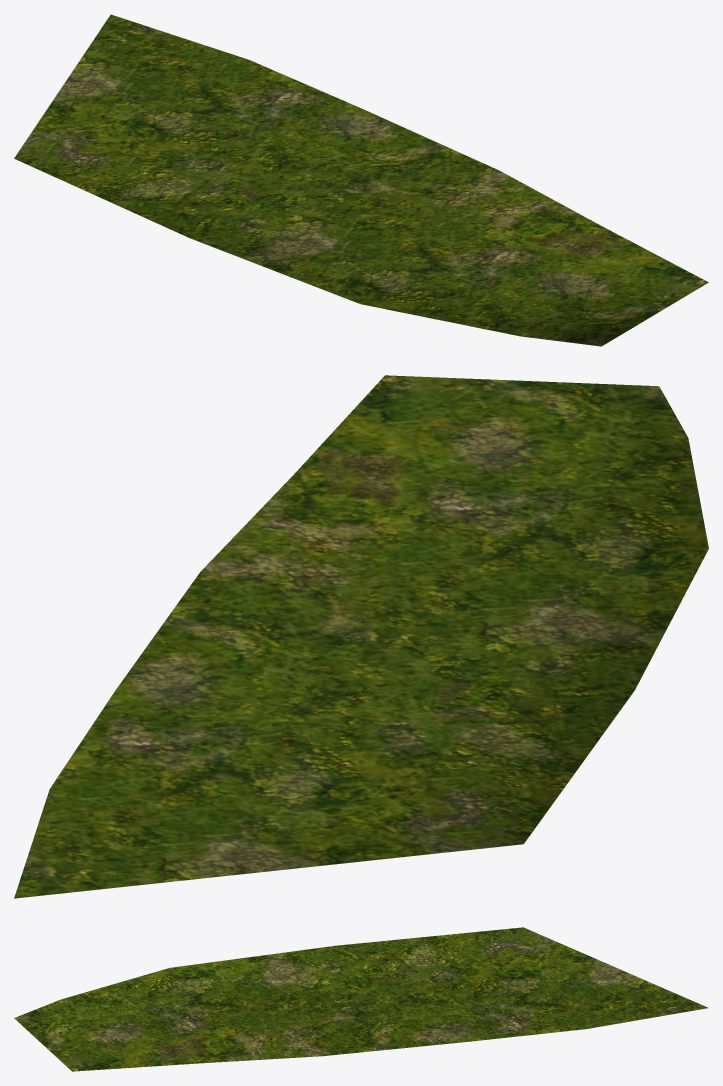
File: OVERHILL_A_01_LINE85.fbx
3 renders of one model, top to bottom at view 1: azimuth 30°, elevation 25°; view 2: azimuth 150°, elevation 25°; view 3: azimuth 270°, elevation 25°, orthographic. The views are drawn at different scales.
Parts seen in each view (by area): view 1: OVERHILL_A_01_LINE85; view 2: OVERHILL_A_01_LINE85; view 3: OVERHILL_A_01_LINE85.
Boxes of the visible parts, box(x1,y1,x2,y2) form: OVERHILL_A_01_LINE85: box(14, 14, 708, 346); OVERHILL_A_01_LINE85: box(14, 375, 708, 898); OVERHILL_A_01_LINE85: box(14, 927, 707, 1071).
Bounding box in the file's own units: 26234 × 7.52 × 53367.
Materials: 1 (1 with a texture image).
